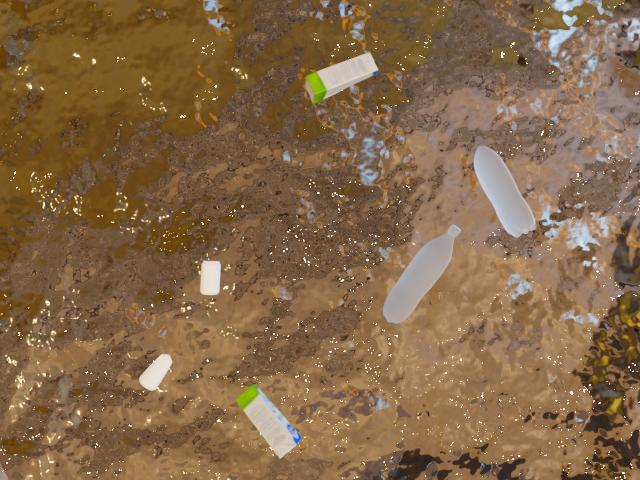Metal: (159, 240, 230, 311), (134, 346, 178, 403)
Plastic: (382, 221, 473, 334), (469, 142, 552, 237)
Trash: (227, 374, 309, 470), (286, 49, 398, 106)
